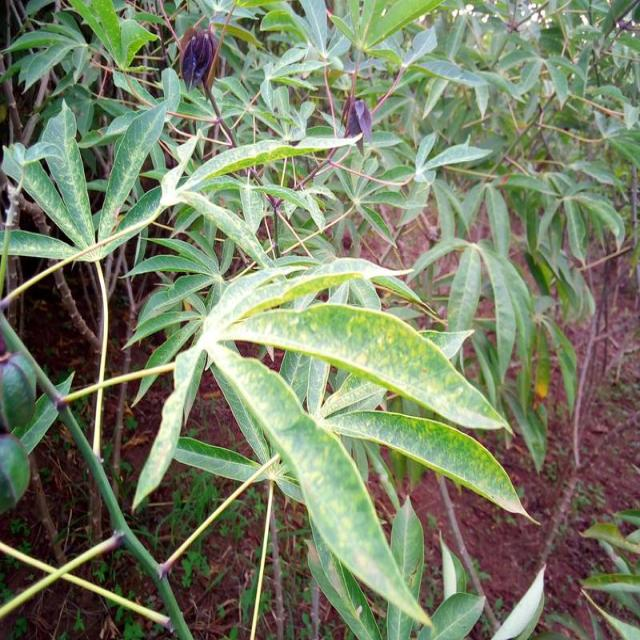cassava leaf: (133, 257, 532, 630), (206, 338, 434, 628), (217, 300, 514, 437)
